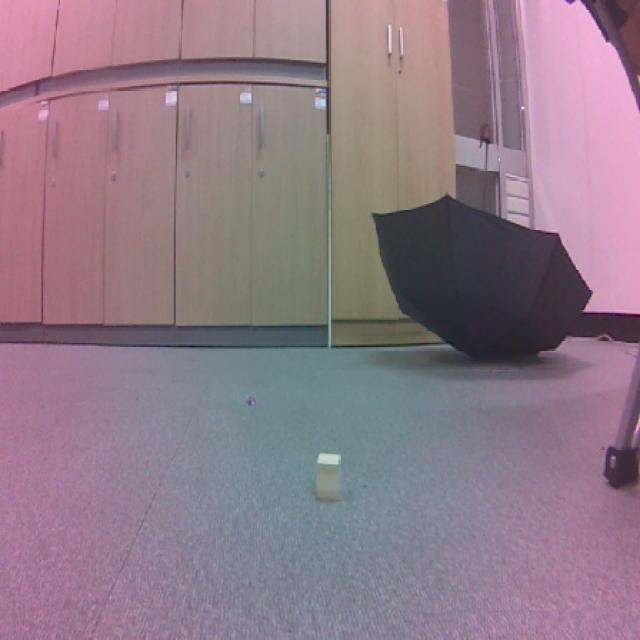obstacle: (309, 447, 346, 502)
